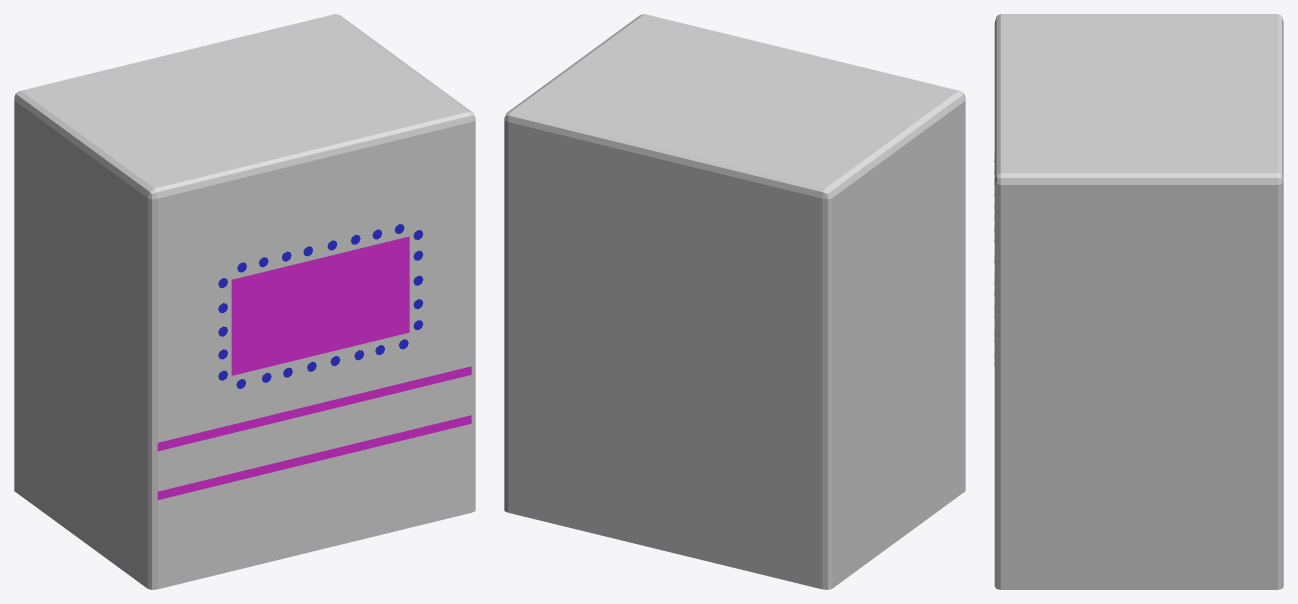
Rendered from crepe.fbx.
The picture shows the model from 3 angles, left to right: view 1: azimuth 30°, elevation 25°; view 2: azimuth 150°, elevation 25°; view 3: azimuth 270°, elevation 25°; orthographic projection. The views are drawn at different scales.
Visible parts, largest first — view 1: Cube; view 2: Cube; view 3: Cube.
Boxes of the visible parts, box(x1,y1,x2,y2) form: Cube: box(14, 14, 475, 589); Cube: box(504, 14, 965, 589); Cube: box(994, 14, 1283, 589).
Size of the model in its own units: 4 by 2.95 by 4.65.
